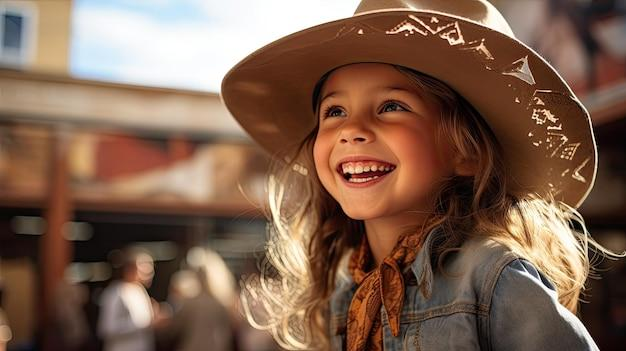cap: (207, 0, 612, 230)
